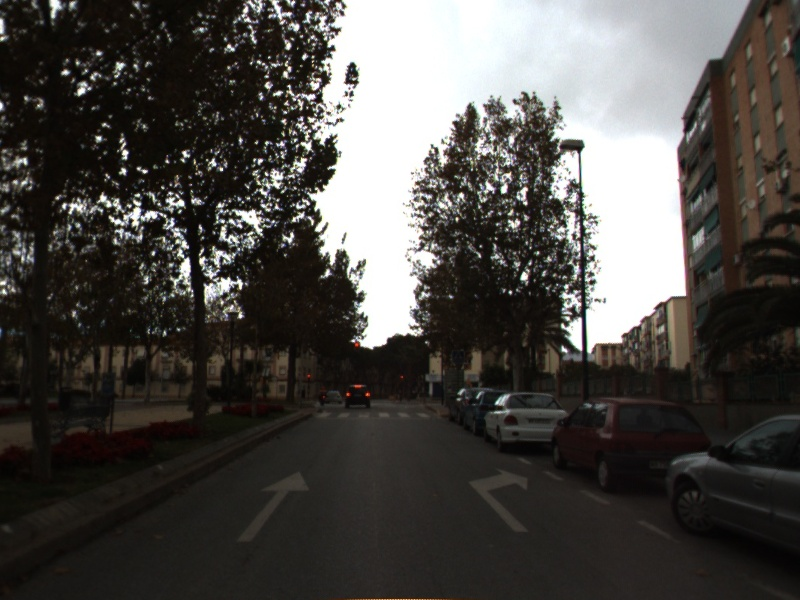RIGHT: (465, 465, 534, 535)
STRAIGHT: (235, 468, 313, 545)
